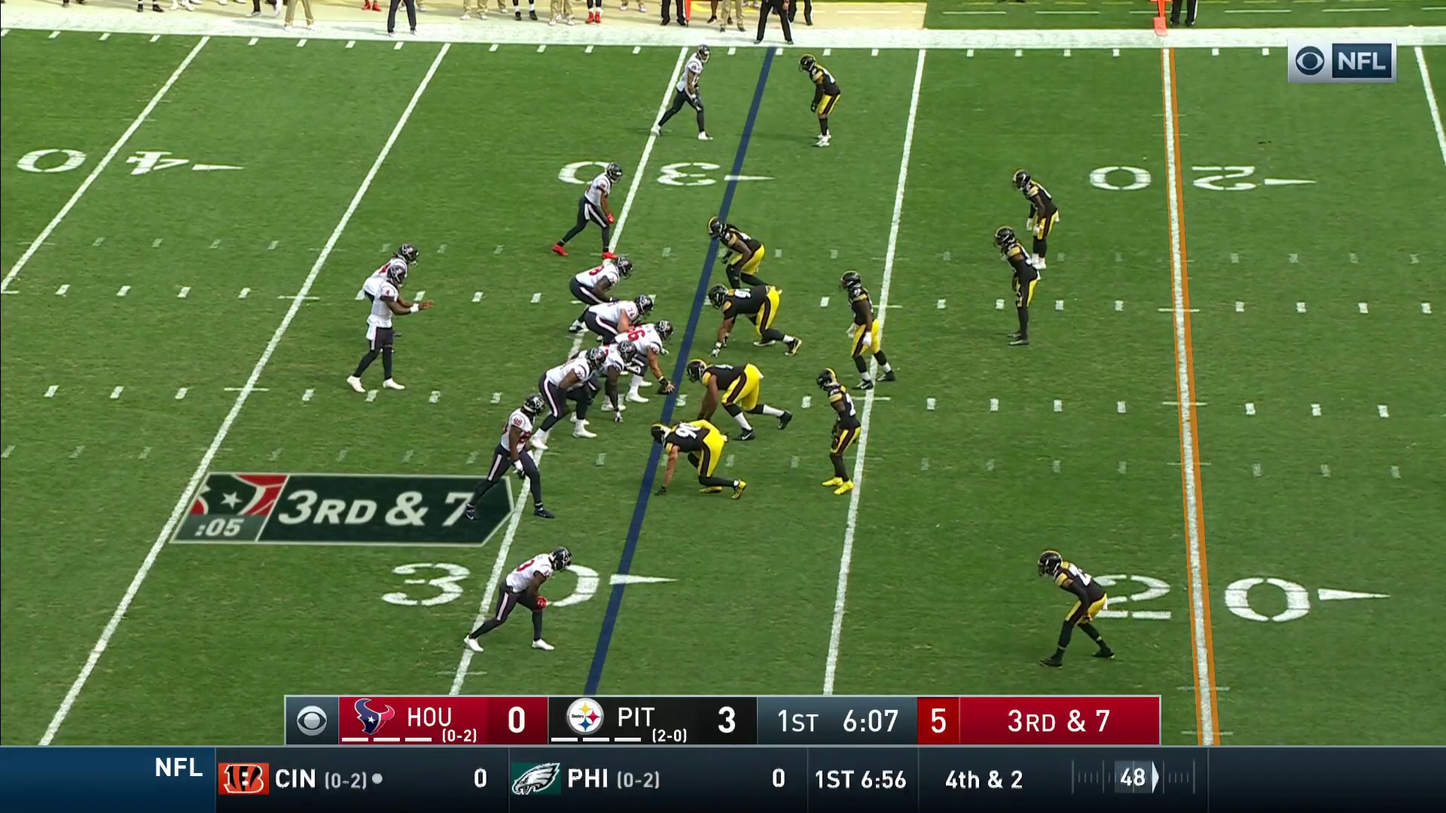Player: (348, 243, 420, 391), (840, 271, 894, 387), (688, 361, 761, 437), (541, 349, 599, 433), (660, 421, 727, 493), (708, 284, 782, 345), (616, 323, 671, 399), (569, 253, 631, 320), (708, 218, 764, 284), (585, 296, 652, 339)
